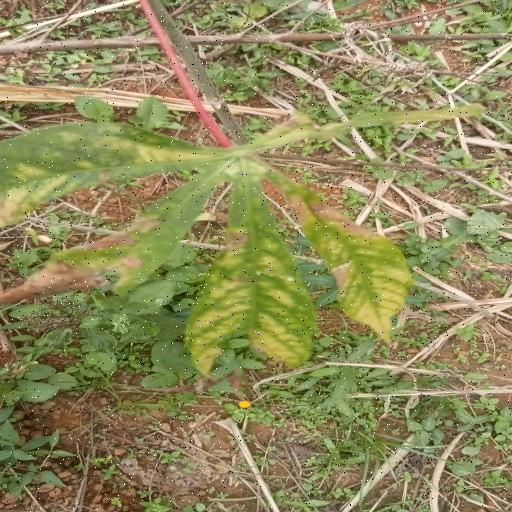Cassava_Bacterial_Disease: (0, 111, 512, 372)
